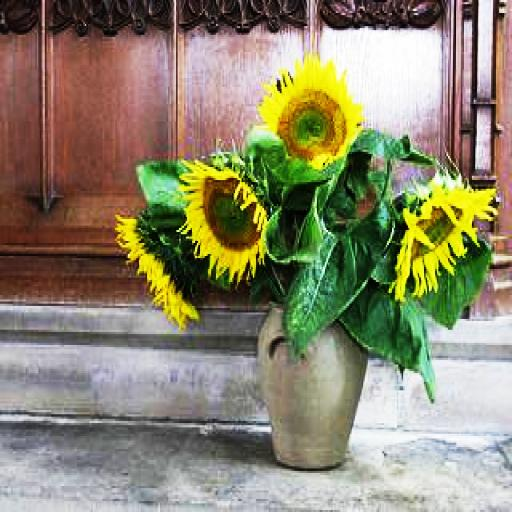sunflower: (394, 182, 496, 310), (180, 156, 274, 289), (262, 56, 364, 170), (110, 215, 197, 336)
